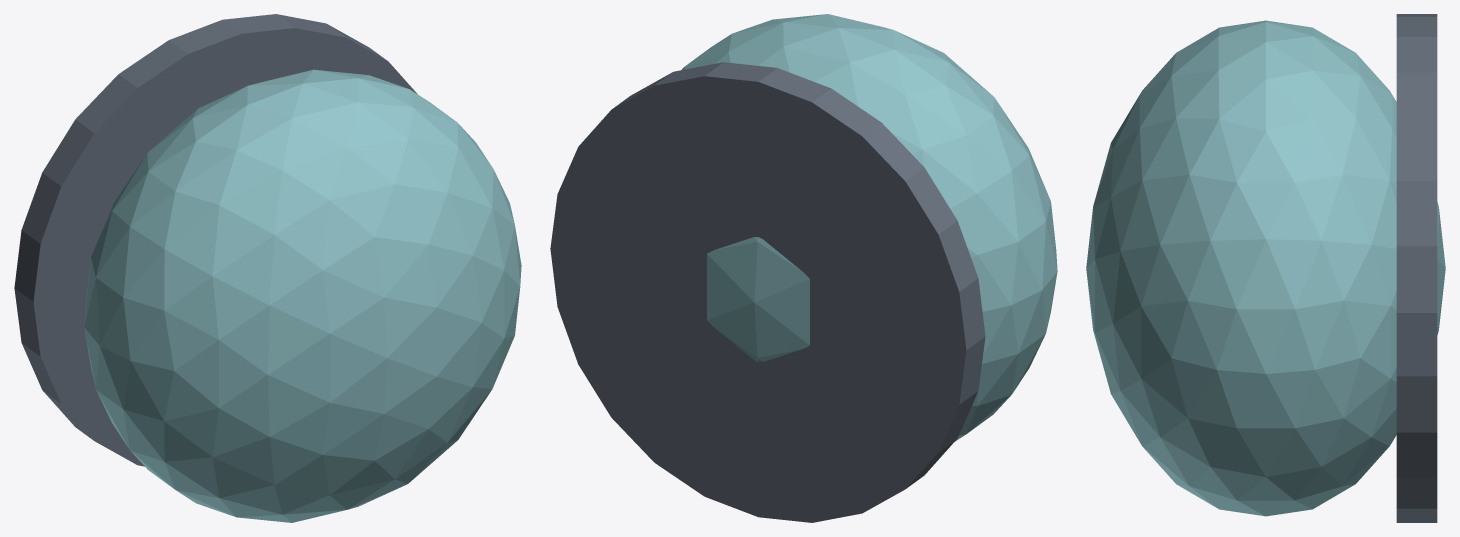
Rendered from greenhouse_dome.glb.
The picture shows the model from 3 angles, left to right: view 1: azimuth 30°, elevation 25°; view 2: azimuth 150°, elevation 25°; view 3: azimuth 270°, elevation 25°; orthographic projection. The views are drawn at different scales.
Parts seen in each view (by area): view 1: greenhouse_dome_1, greenhouse_dome_0; view 2: greenhouse_dome_0, greenhouse_dome_1; view 3: greenhouse_dome_1, greenhouse_dome_0.
Boxes of the visible parts, x1,y1,x2,y2 form: greenhouse_dome_1: (84, 69, 521, 522); greenhouse_dome_0: (14, 14, 416, 466); greenhouse_dome_0: (550, 62, 985, 522); greenhouse_dome_1: (682, 14, 1057, 441); greenhouse_dome_1: (1086, 20, 1445, 516); greenhouse_dome_0: (1396, 14, 1437, 522).
Size of the model in its own units: 4.4 by 4.4 by 3.1.
